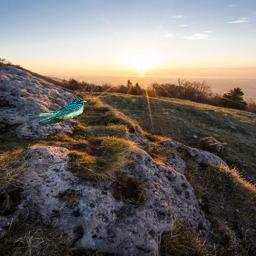Swallow: (25, 98, 87, 126)
